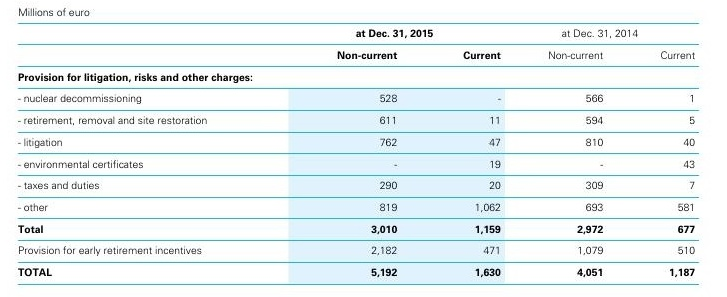table: (0, 0, 727, 297)
